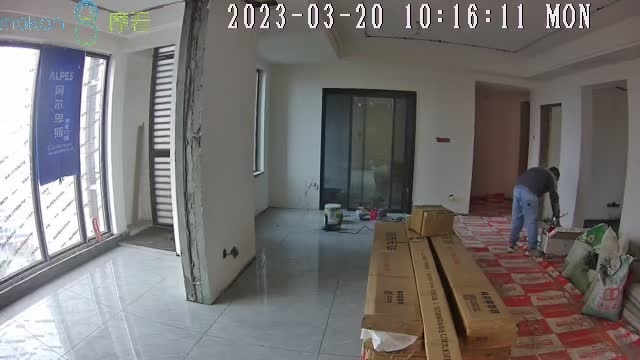people: (506, 167, 561, 255)
window: (1, 40, 111, 286)
